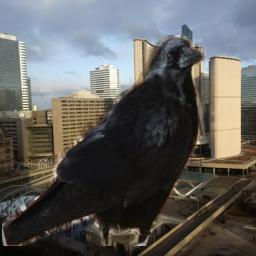Crow: (2, 35, 207, 246)
